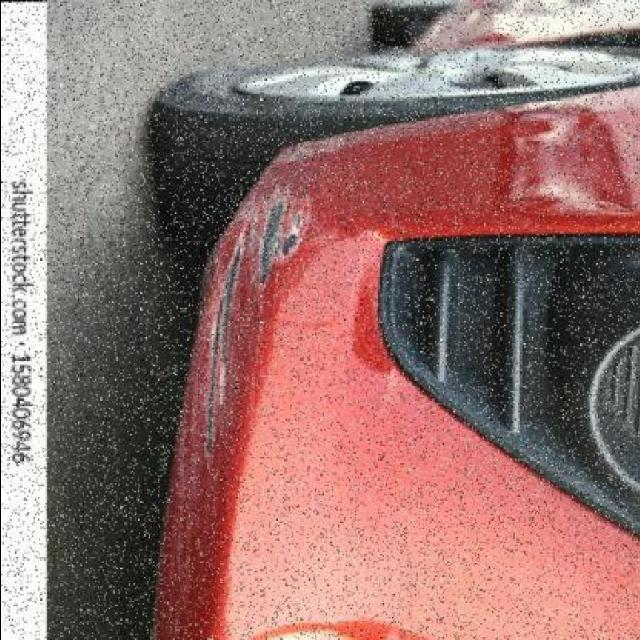front-bumper-dent: (172, 57, 468, 638)
